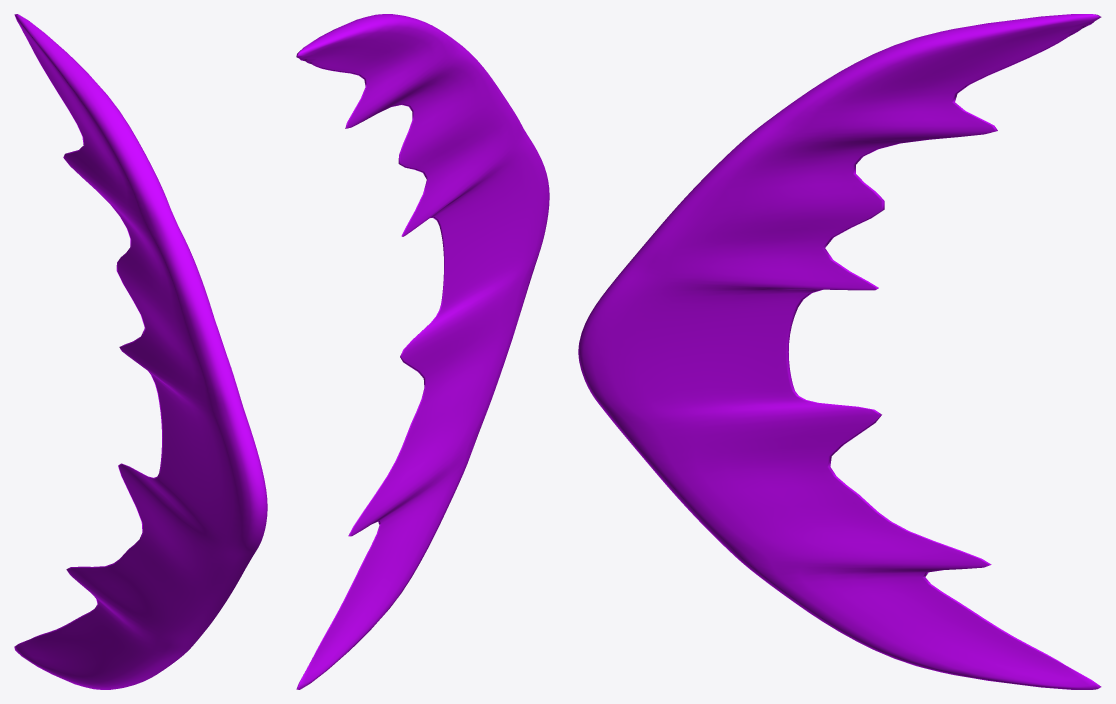
File: Rude Buster.fbx
3 views of the same model, side by side, from view 1: azimuth 30°, elevation 25°; view 2: azimuth 150°, elevation 25°; view 3: azimuth 270°, elevation 25° (orthographic). The views are drawn at different scales.
Visible parts, largest first — view 1: rude_buster; view 2: rude_buster; view 3: rude_buster.
Part boxes in pixels (x1=…): rude_buster: x1=14, y1=14, x2=267, y2=689; rude_buster: x1=296, y1=14, x2=549, y2=689; rude_buster: x1=578, y1=14, x2=1101, y2=689.
Bounding box in the file's own units: 0.1057 × 2.5 × 1.76.
